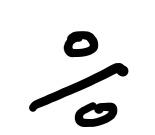div: (29, 31, 129, 127)
